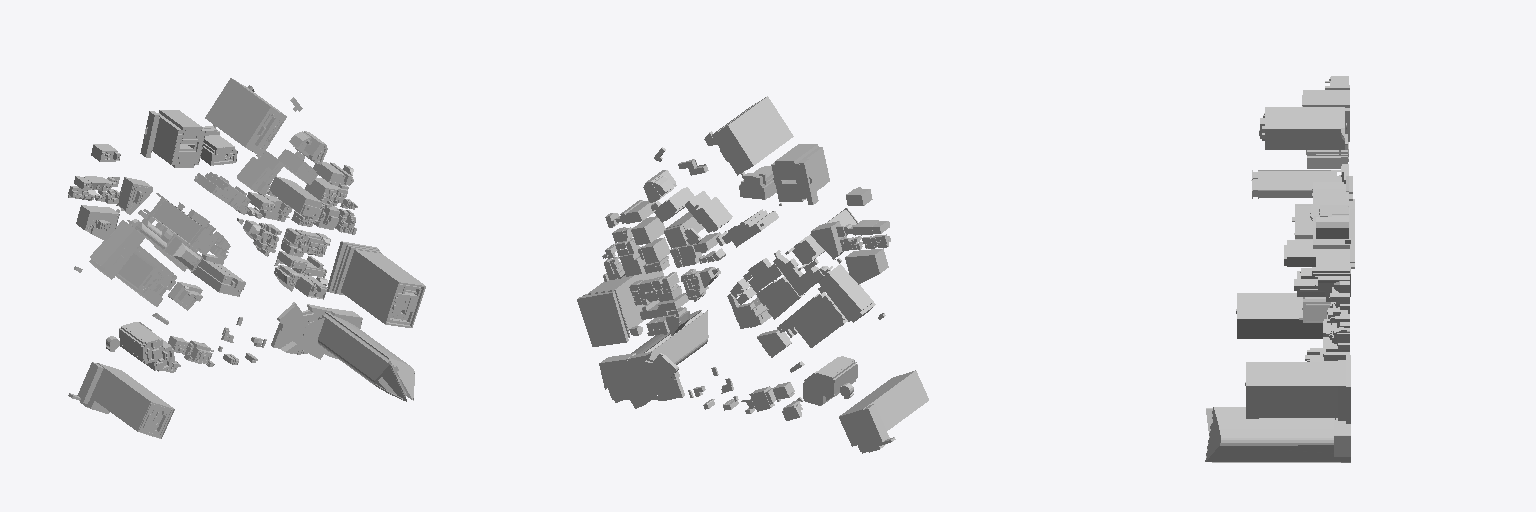
The model's file is 533945092_bldg_6677.obj.
3 renders of one model, left to right at view 1: azimuth 30°, elevation 25°; view 2: azimuth 150°, elevation 25°; view 3: azimuth 270°, elevation 25°, orthographic.
Size of the model in its own units: 635 by 594 by 264.